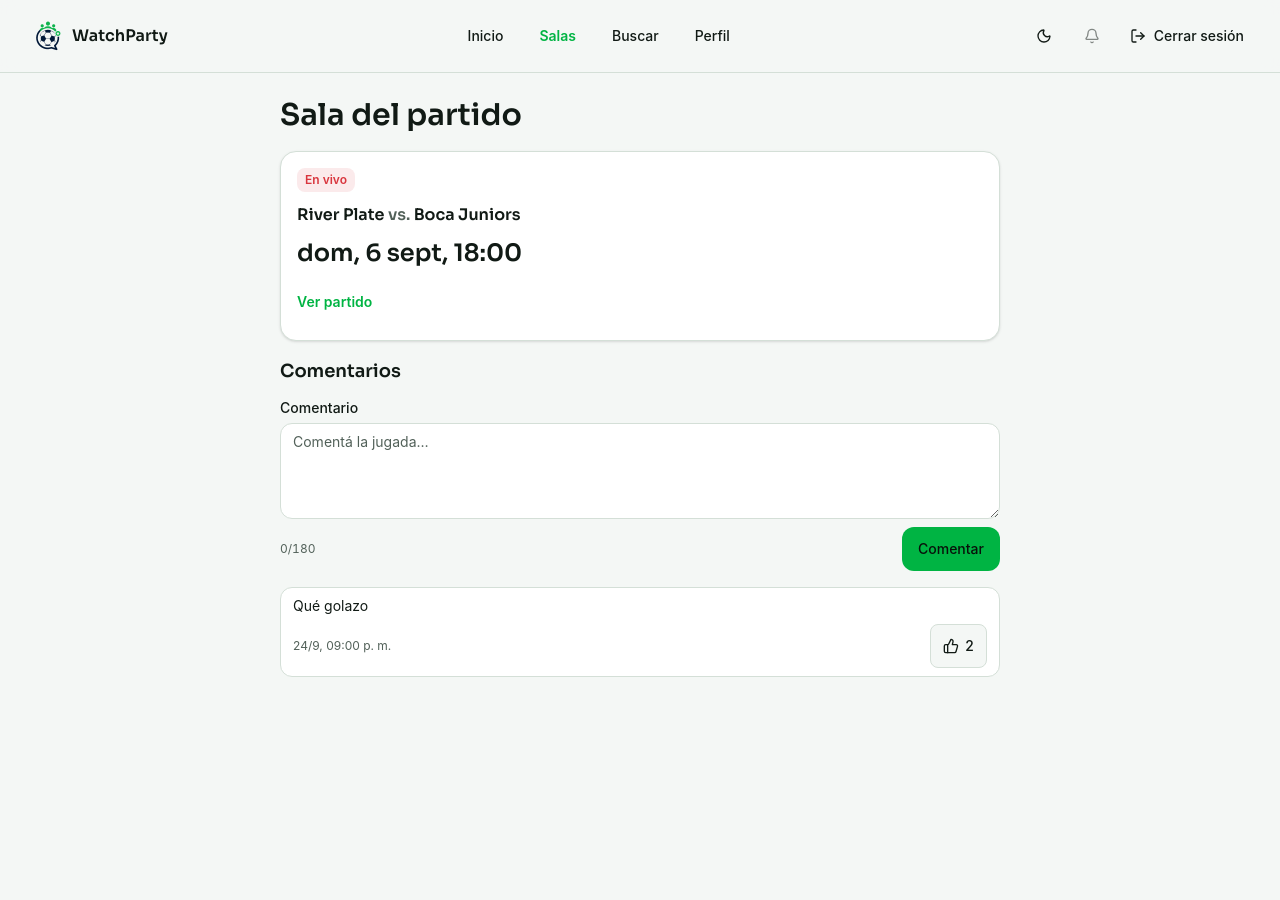
Test: Sala: reacciones de los comentarios › al reaccionar, el ícono y el contador cambian sin recargar
Click the button named "Me gusta".
click(958, 646)  # box [930, 624, 987, 668]
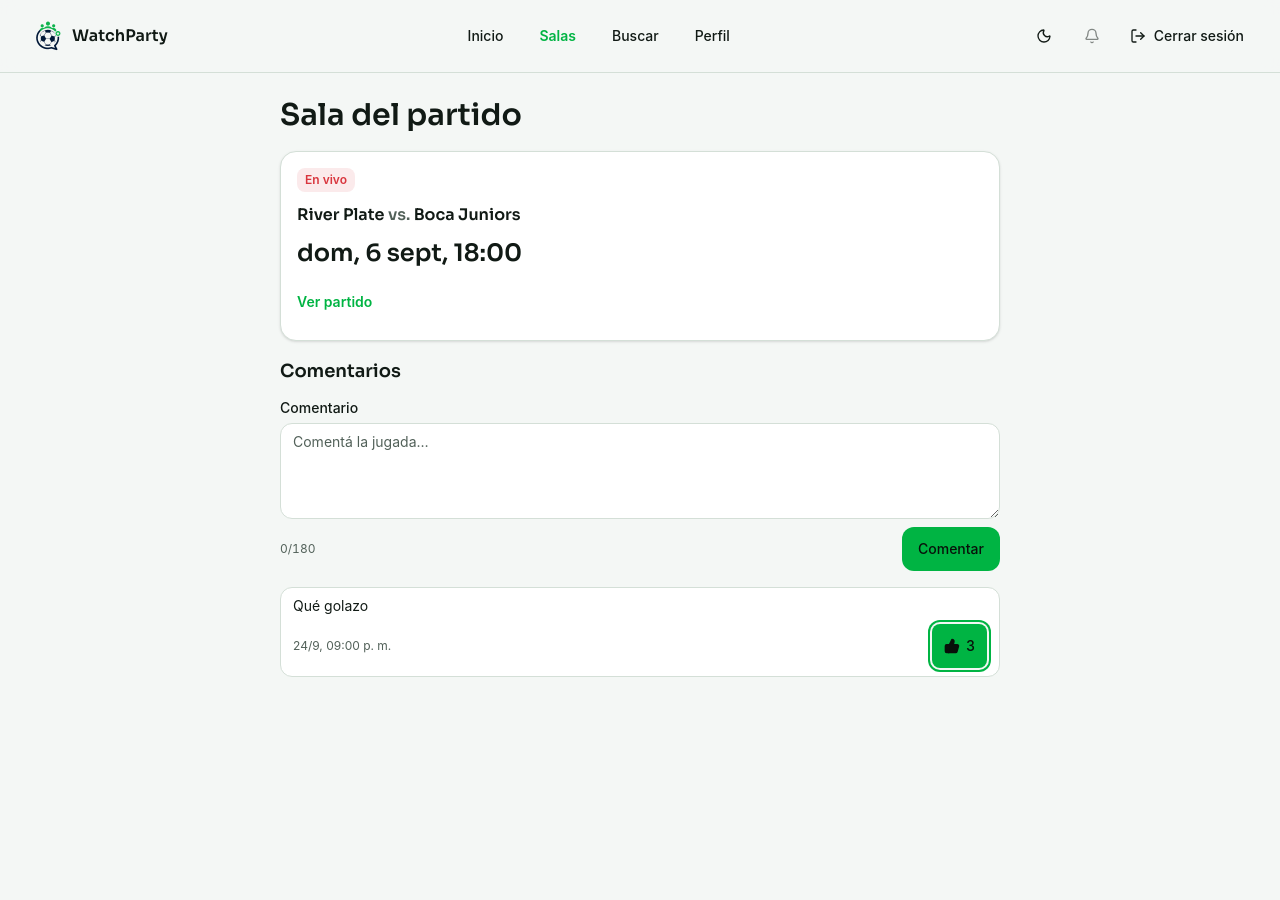
Result: the button named "Me gusta" reads "3" at [932, 624, 987, 668]
